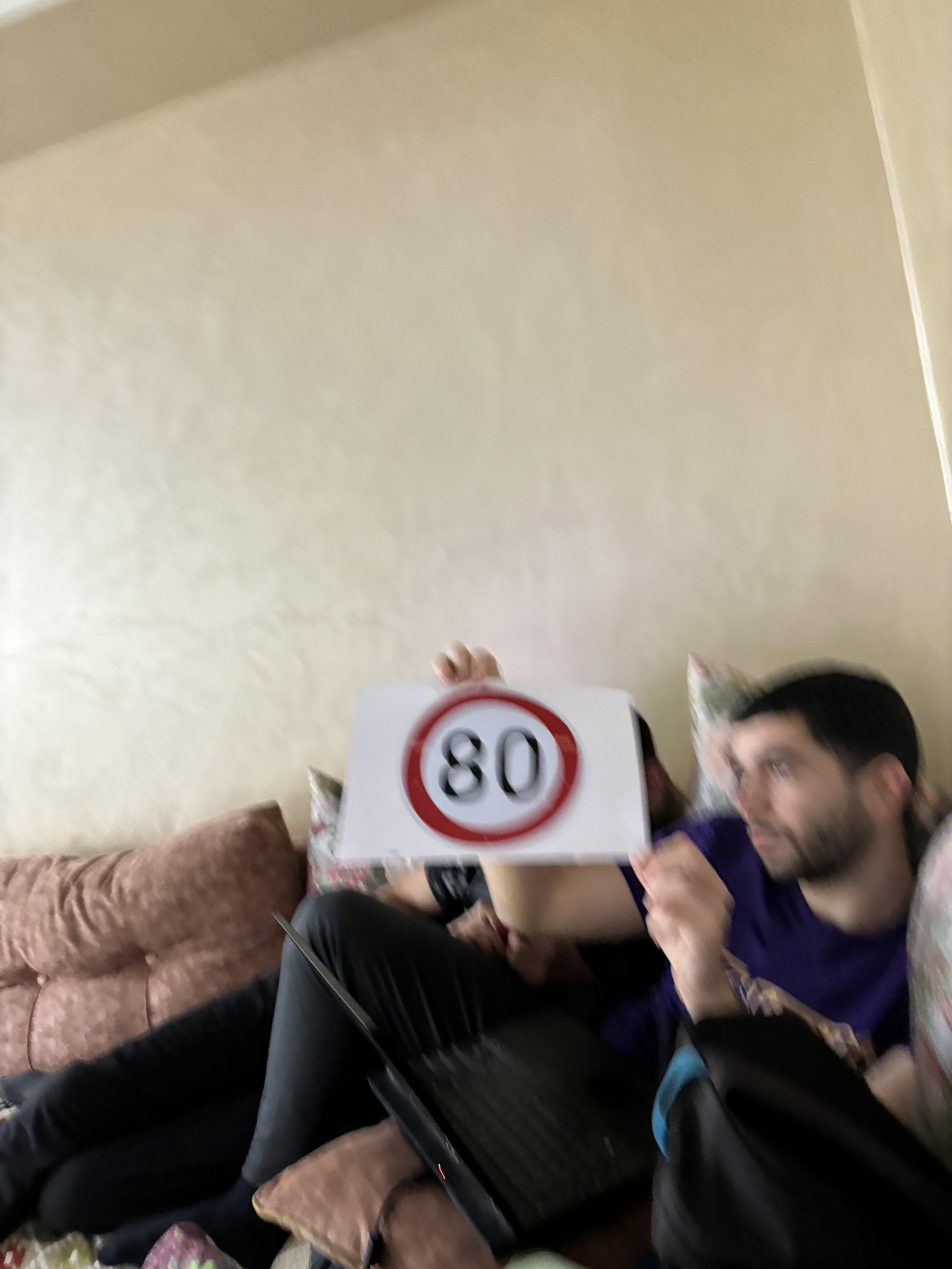80-Speed: (396, 685, 591, 845)
